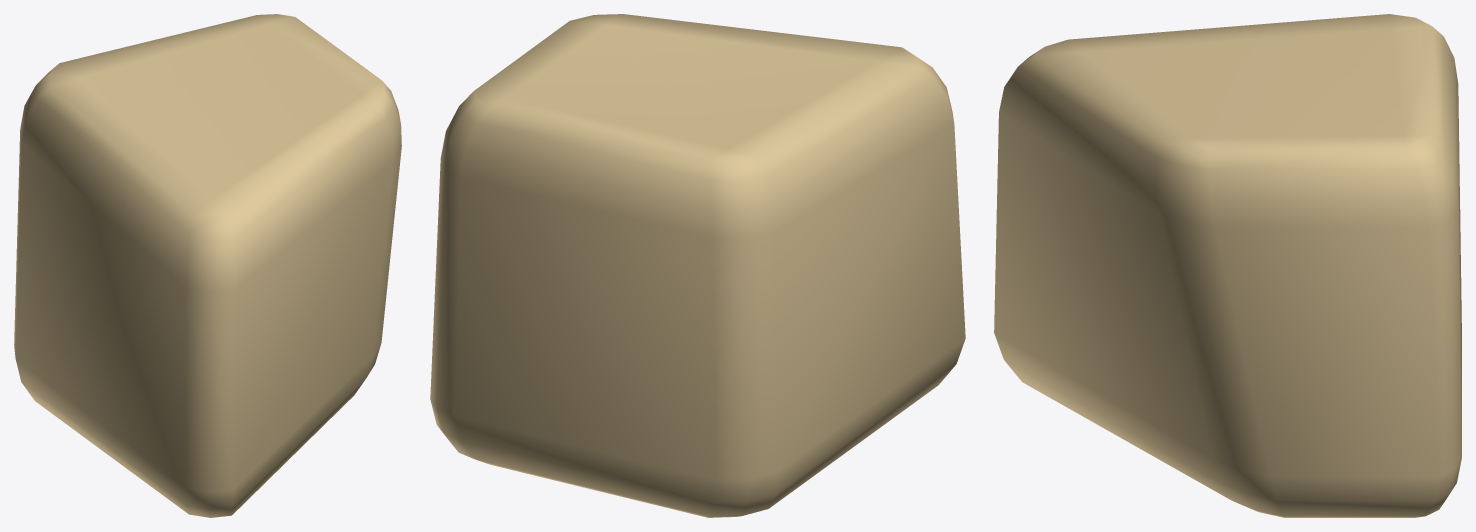
Rendered from Rock10_MESH.FBX.
3 renders of one model, left to right at view 1: azimuth 30°, elevation 25°; view 2: azimuth 150°, elevation 25°; view 3: azimuth 270°, elevation 25°, orthographic. The views are drawn at different scales.
Parts seen in each view (by area): view 1: Rock10_low; view 2: Rock10_low; view 3: Rock10_low.
Part boxes in pixels (bbox=[...]): Rock10_low: bbox=[14, 14, 401, 517]; Rock10_low: bbox=[430, 14, 965, 517]; Rock10_low: bbox=[994, 14, 1461, 517].
Size of the model in its own units: 116 by 118 by 137.
